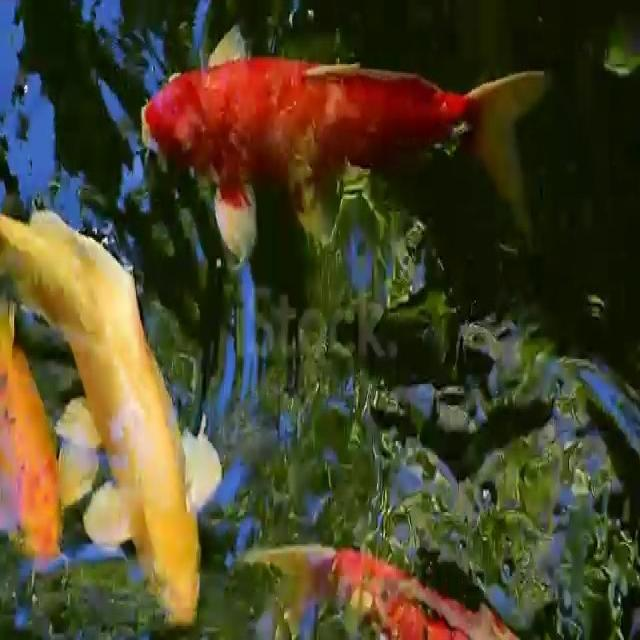fish: (134, 18, 547, 260), (0, 195, 212, 640), (0, 311, 102, 587)
